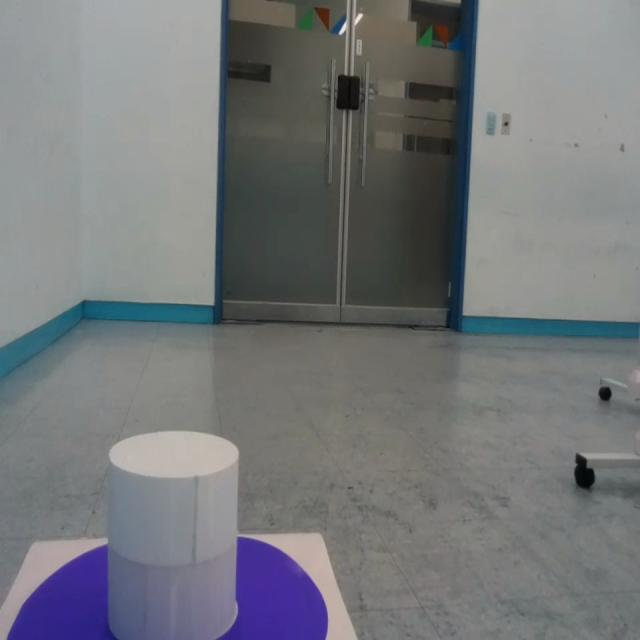cylinder: (106, 430, 240, 638)
